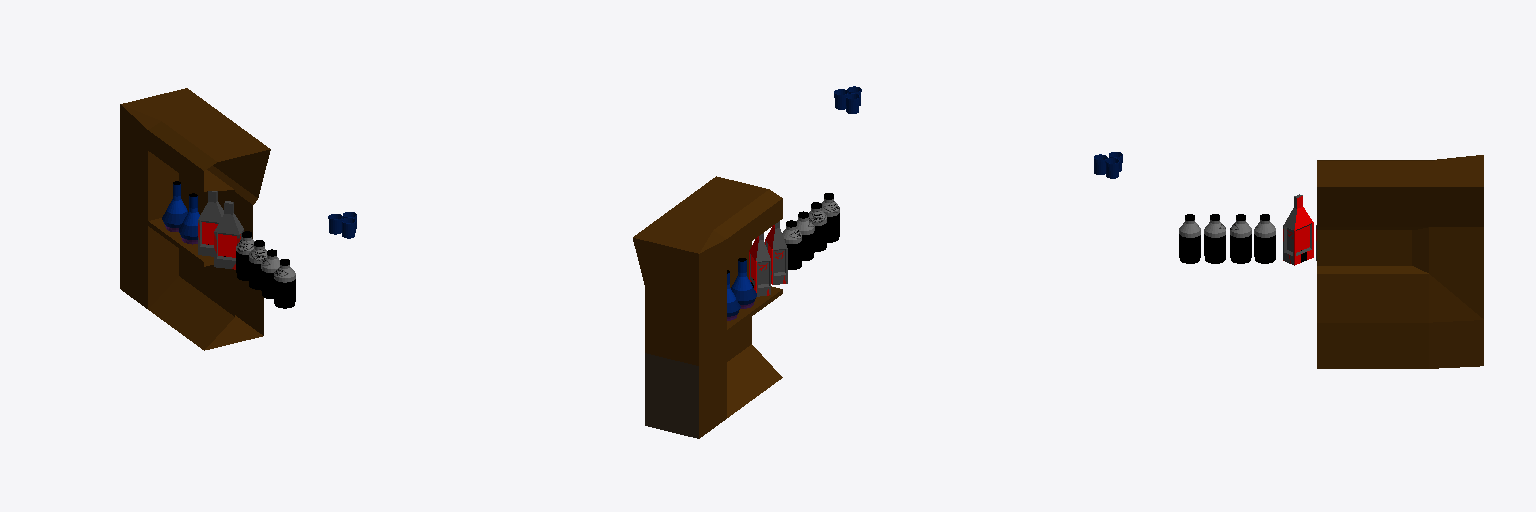
The picture shows the model from 3 angles: view 1: azimuth 30°, elevation 25°; view 2: azimuth 150°, elevation 25°; view 3: azimuth 270°, elevation 25°; orthographic projection.
Visible parts, largest first — view 1: pCube1, pCube4, pCube3, pCylinder12, pCylinder1, pCylinder9, pCylinder11, pCylinder3, pCylinder10; view 2: pCube1, pCube3, pCube4, pCylinder9, pCylinder3, pCylinder12, pCylinder10, pCylinder11; view 3: pCube1, pCube4, pCylinder3, pCylinder10, pCylinder11, pCylinder12.
Part boxes in pixels (x1,y1,x2,y2): pCube1: (120, 88, 270, 350); pCube4: (214, 201, 243, 269); pCube3: (198, 191, 223, 256); pCylinder12: (274, 259, 295, 308); pCylinder1: (162, 181, 187, 231); pCylinder9: (179, 193, 199, 244); pCylinder11: (261, 249, 279, 298); pCylinder3: (236, 231, 254, 280); pCylinder10: (249, 240, 266, 289); pCube1: (633, 176, 782, 438); pCube3: (749, 233, 770, 296); pCube4: (765, 221, 787, 284); pCylinder9: (731, 258, 756, 308); pCylinder3: (782, 220, 801, 269); pCylinder12: (821, 193, 839, 242); pCylinder10: (796, 211, 814, 260); pCylinder11: (809, 202, 826, 251); pCube1: (1317, 155, 1483, 368); pCube4: (1283, 194, 1313, 265); pCylinder3: (1254, 214, 1275, 263); pCylinder10: (1230, 214, 1251, 263); pCylinder11: (1204, 214, 1225, 263); pCylinder12: (1179, 214, 1200, 263).
Size of the model in its own units: 0.3766 by 1.08 by 2.
Materials: 5 (5 with a texture image).